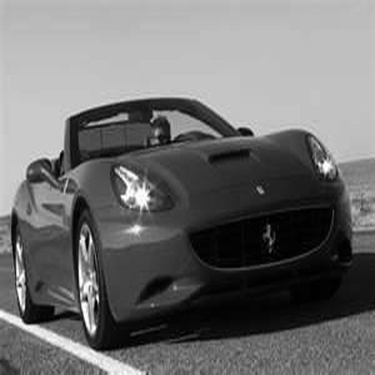car: (1, 86, 360, 356)
